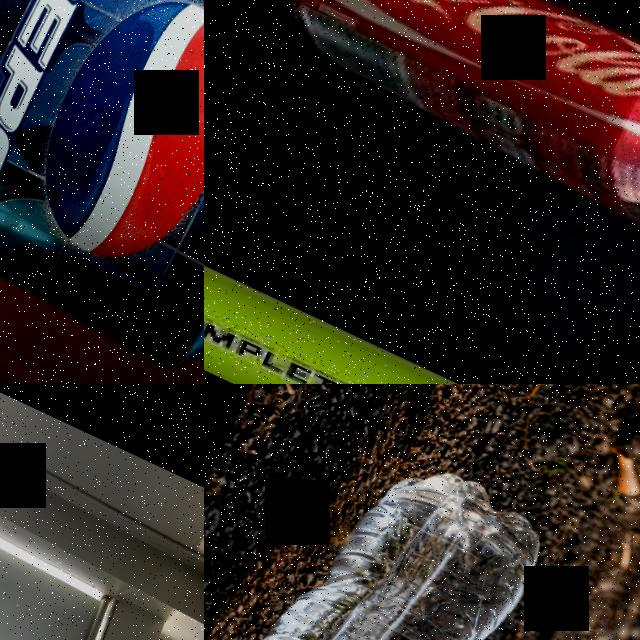bottle: (204, 416, 560, 640)
can: (244, 0, 640, 271), (0, 0, 204, 384)
